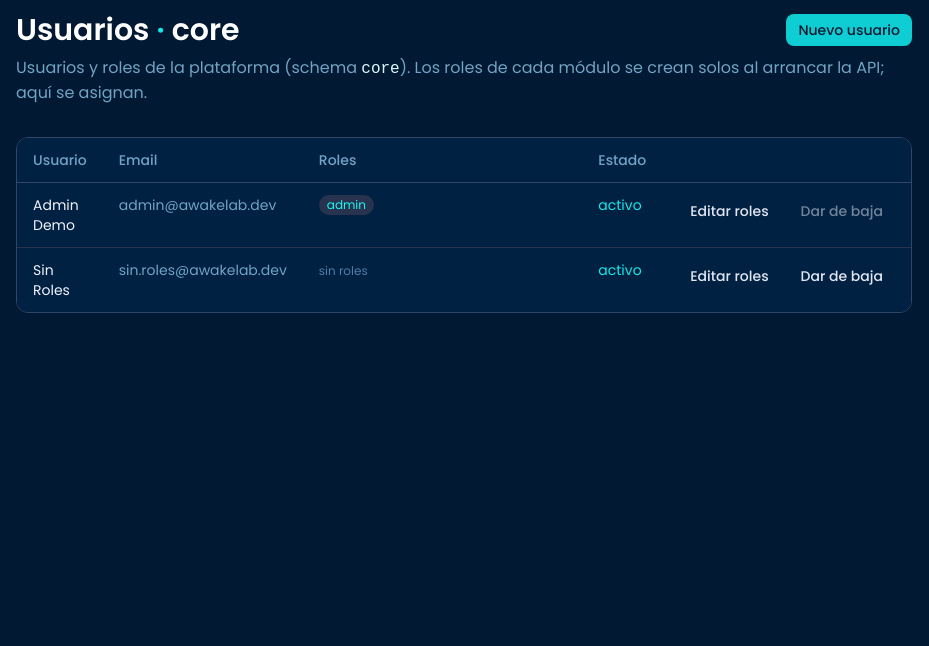
Test: UsersPage (asignación de roles sin SQL — incremento D, bloque 2) › da de alta un usuario de plataforma y avisa de que el actor de la Fábrica es otra cosa
The width and height of the screenshot is (929, 646).
Expected: the table with test id "users-table" is shown, [17,138,911,312]
Step 1. Click the button "Nuevo usuario" → click(849, 30), box [786,14,912,46]
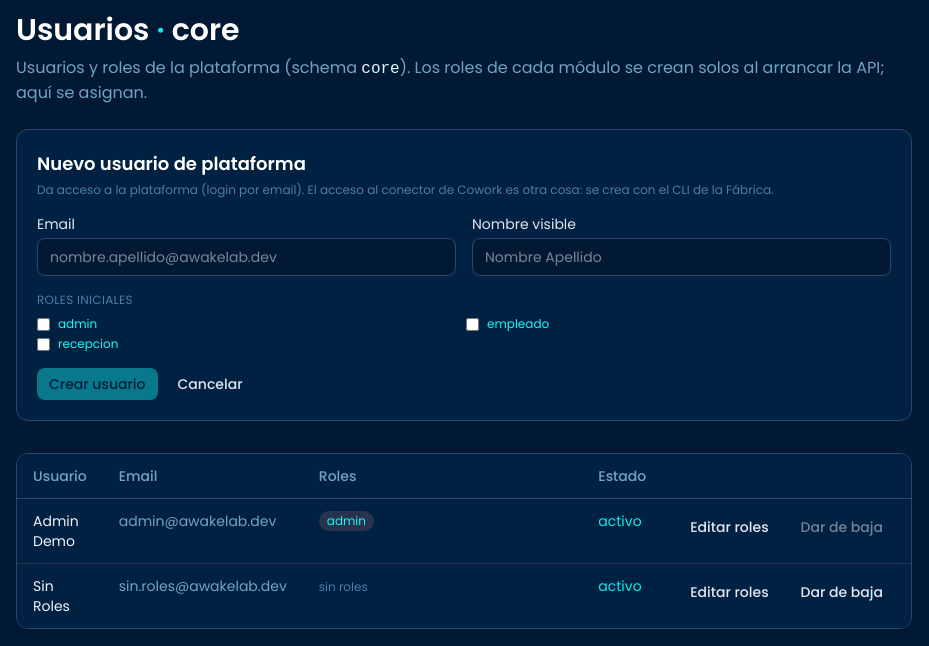
Result: the button "Crear usuario" is disabled at [37,368,158,400]
Step 2. Type "prueba.gerente@awakelab.dev" into the field labelled "Email" → (246, 257), box [37,238,456,276]
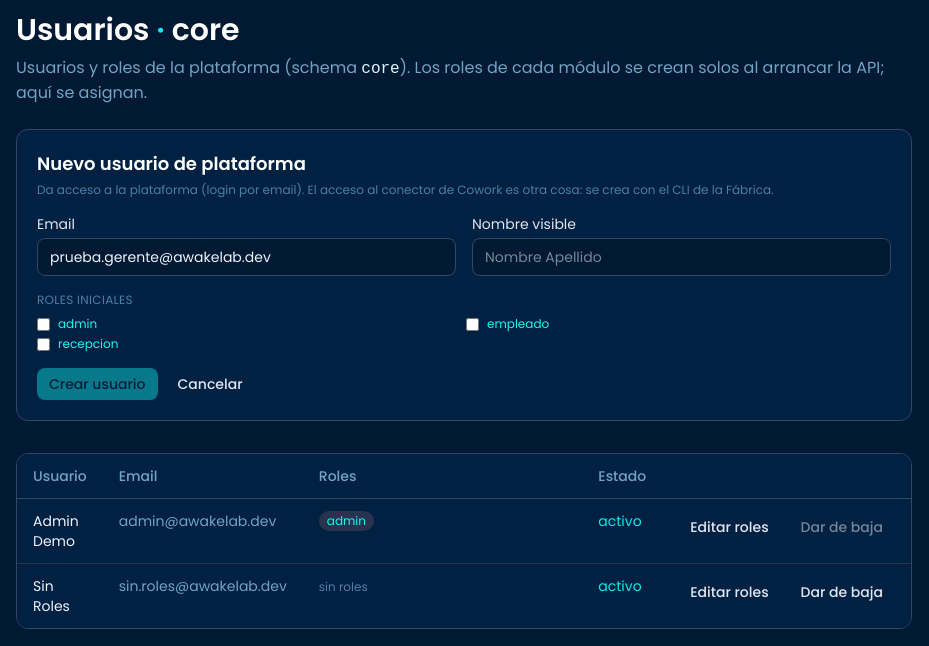
Step 3. Type "Prueba Gerente" into the field labelled "Nombre visible" → (682, 257), box [472,238,891,276]
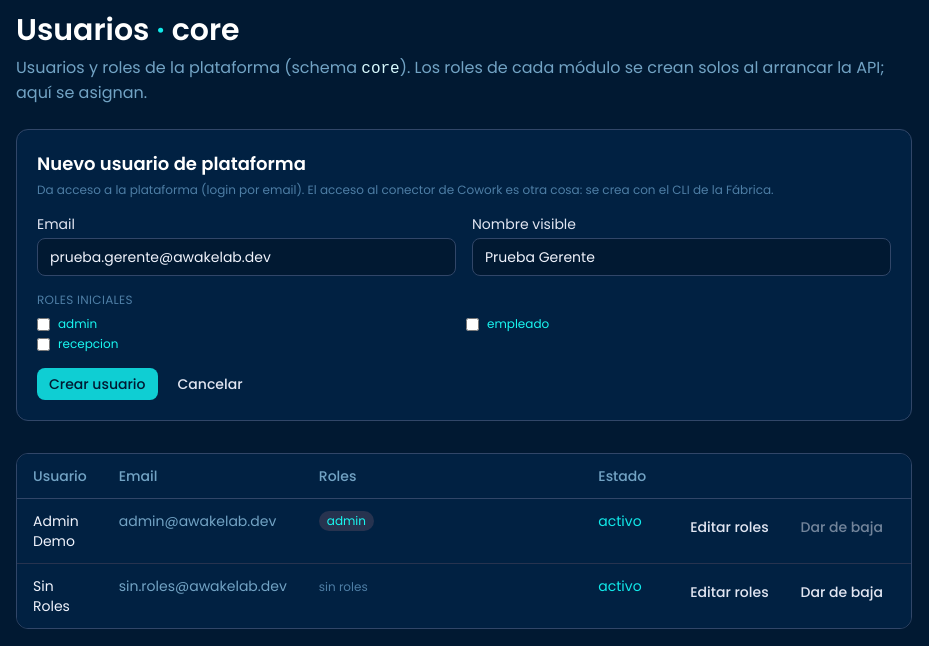
Step 4. Click the checkbox labelled "empleado" → click(472, 324), box [466,318,479,330]
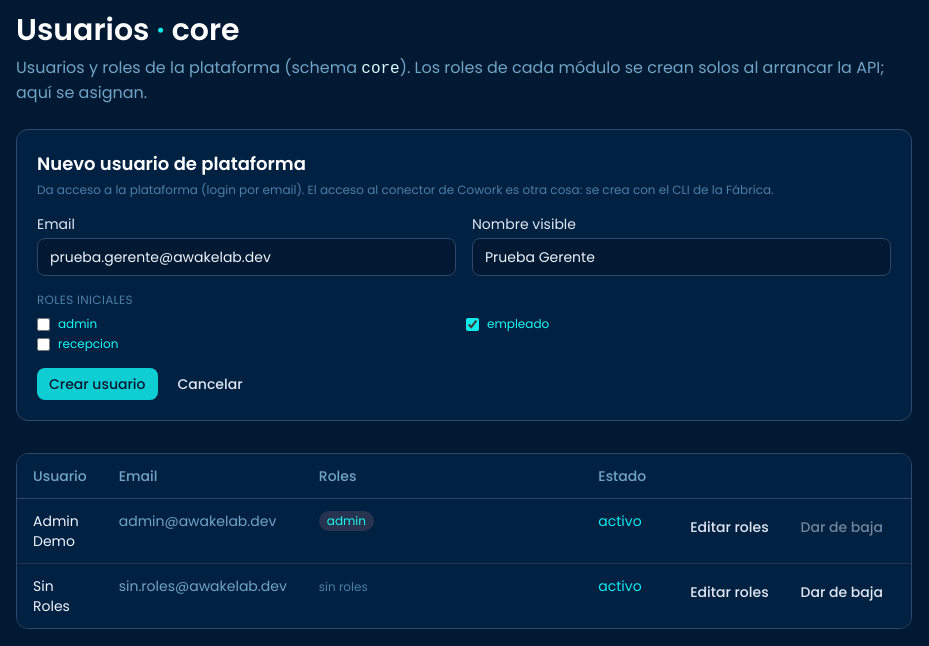
Step 5. Click the button "Crear usuario" → click(97, 384), box [37,368,158,400]
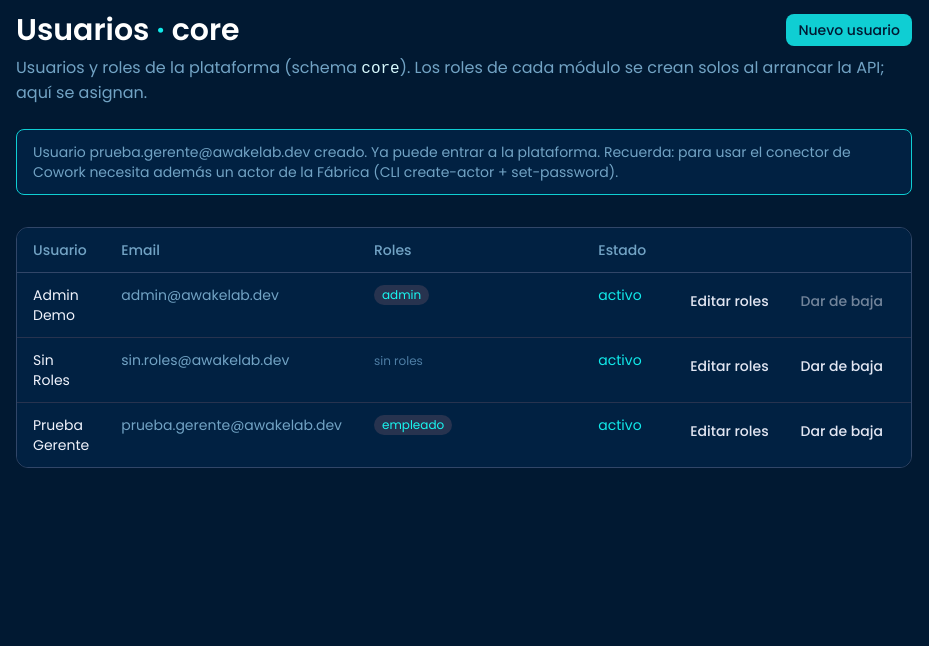
Result: the message with test id "roles-notice" shows "prueba.gerente@awakelab.dev" at [33,142,851,182]
Result: the message with test id "roles-notice" shows "actor de la Fábrica" at [33,142,851,182]
Result: the text "Prueba Gerente" is shown at [17,402,105,467]
